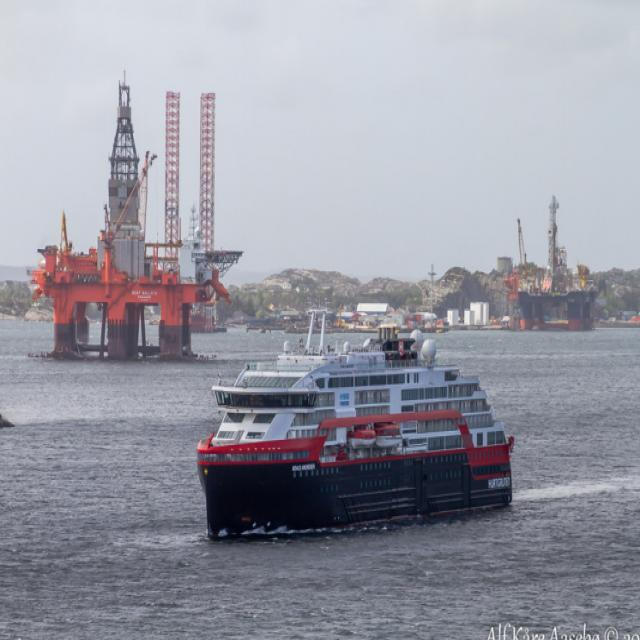cruises: (202, 309, 525, 538)
